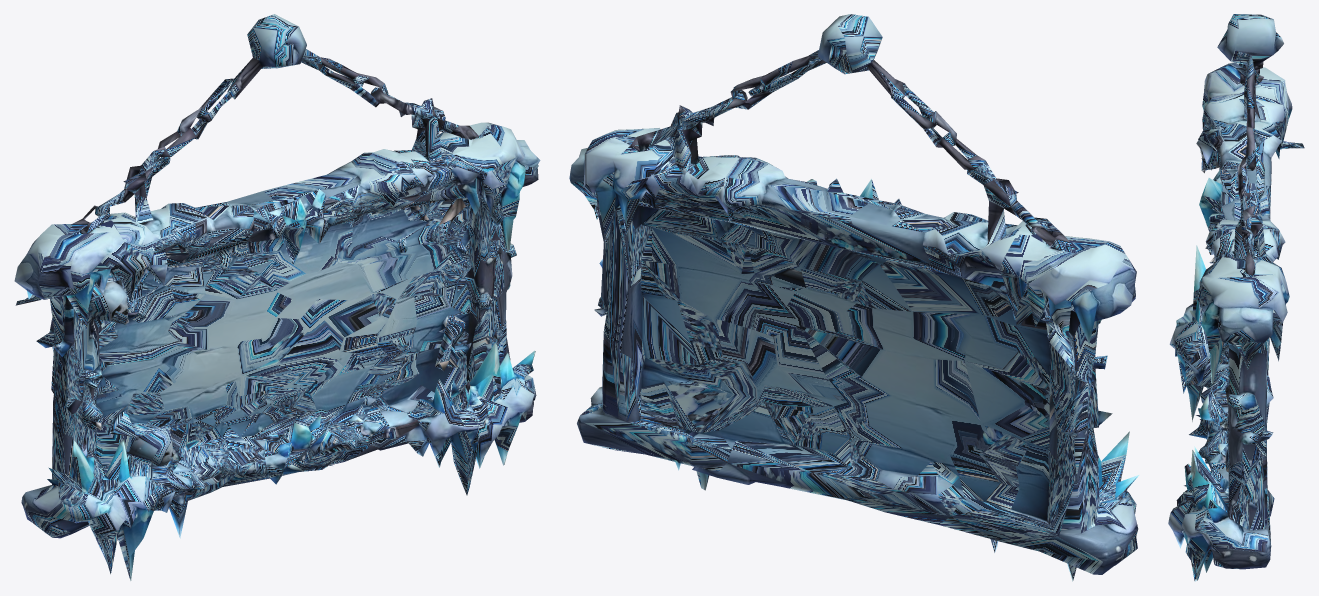
The model's file is ice_mine_sign_01.glb.
3 renders of one model, left to right at view 1: azimuth 30°, elevation 25°; view 2: azimuth 150°, elevation 25°; view 3: azimuth 270°, elevation 25°, orthographic. The views are drawn at different scales.
Parts seen in each view (by area): view 1: tripo_node_b5afd295-afdb-4631-a778-32f630bd0395; view 2: tripo_node_b5afd295-afdb-4631-a778-32f630bd0395; view 3: tripo_node_b5afd295-afdb-4631-a778-32f630bd0395.
Boxes of the visible parts, x1=… form: tripo_node_b5afd295-afdb-4631-a778-32f630bd0395: x1=14, y1=14, x2=540, y2=580; tripo_node_b5afd295-afdb-4631-a778-32f630bd0395: x1=569, y1=14, x2=1138, y2=581; tripo_node_b5afd295-afdb-4631-a778-32f630bd0395: x1=1168, y1=14, x2=1304, y2=581.
Size of the model in its own units: 0.9743 by 0.9044 by 0.2283.
Materials: 1 (1 with a texture image).
